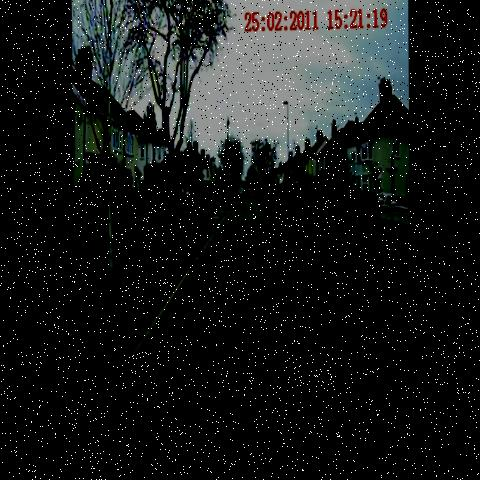pothole: (192, 305, 210, 332), (210, 294, 226, 323), (256, 240, 274, 263), (242, 217, 256, 239), (223, 226, 236, 242)
